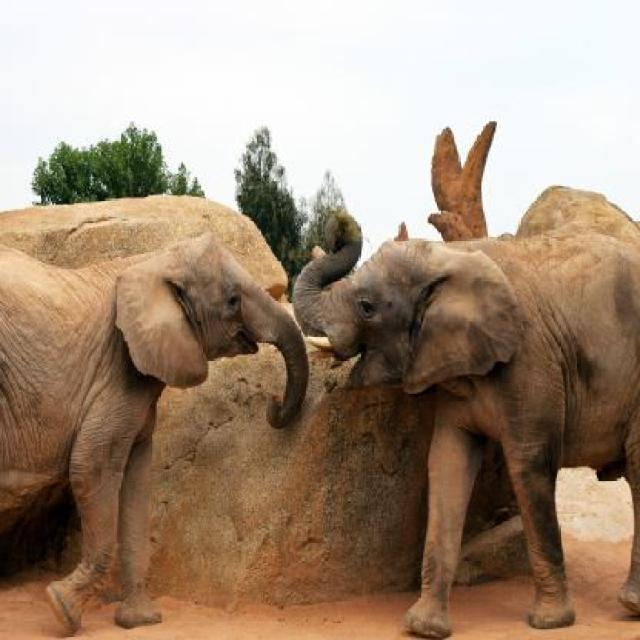Elephant: (292, 204, 638, 638), (0, 226, 315, 640)
